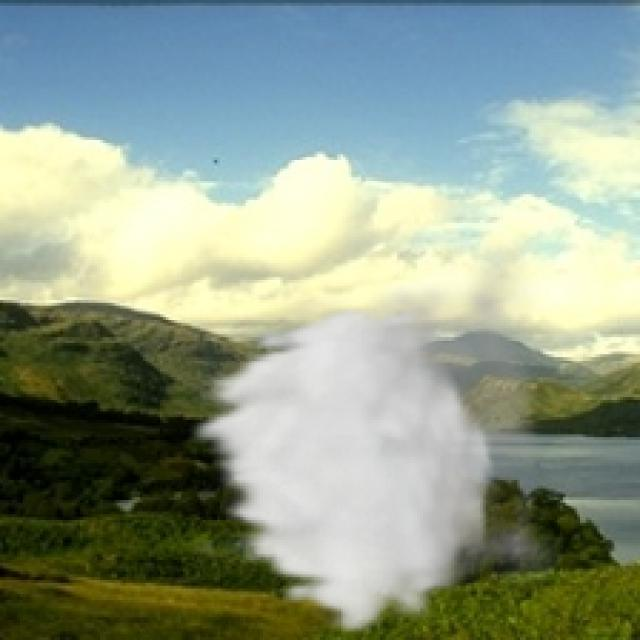smoke: (183, 234, 568, 637)
